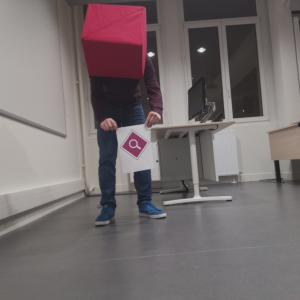search: (121, 130, 149, 159)
